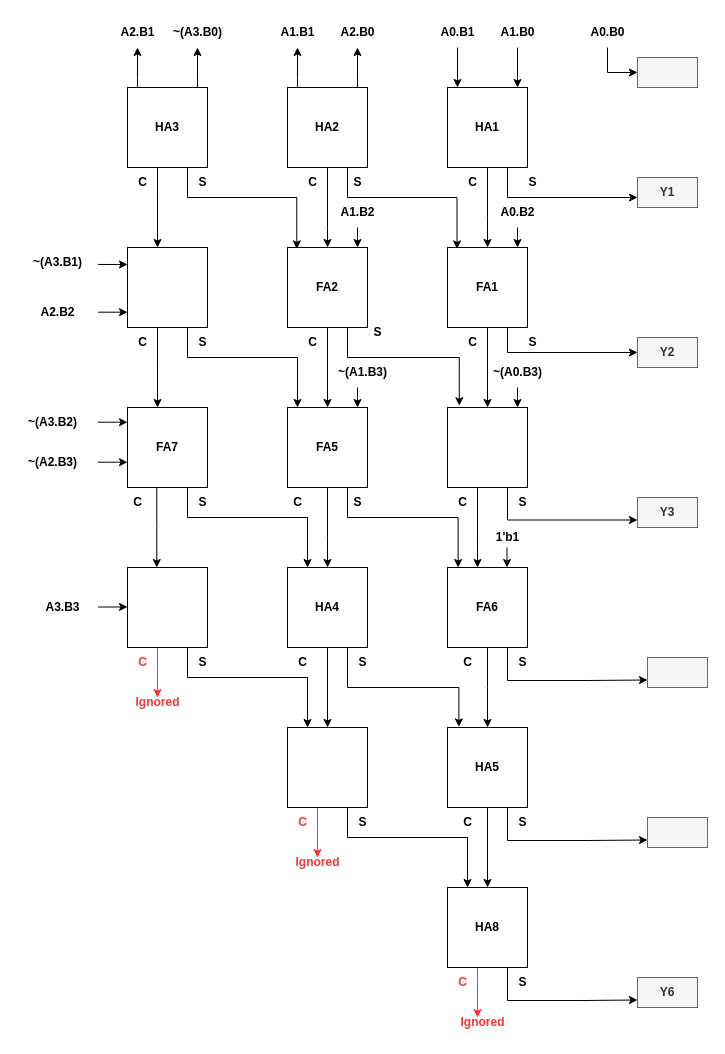
The diagram is 725 pixels wide and 1054 high, and some of its shapes have lost their labels. The shapes that lost their labels are listed below. From the top down, each one's centre as x and y in pixels, then its label:
(x=667, y=72): Y0
(x=167, y=287): FA4
(x=487, y=447): FA3
(x=167, y=607): HA6
(x=677, y=672): Y4
(x=327, y=767): HA7
(x=677, y=832): Y5
